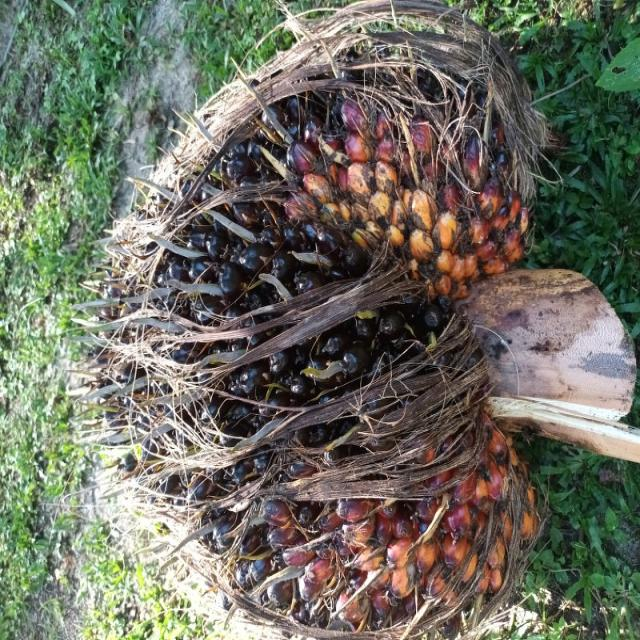fraksi 1: (0, 77, 480, 640)
